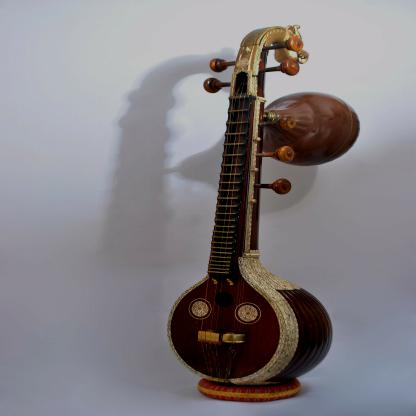Veena: (163, 8, 329, 394)
